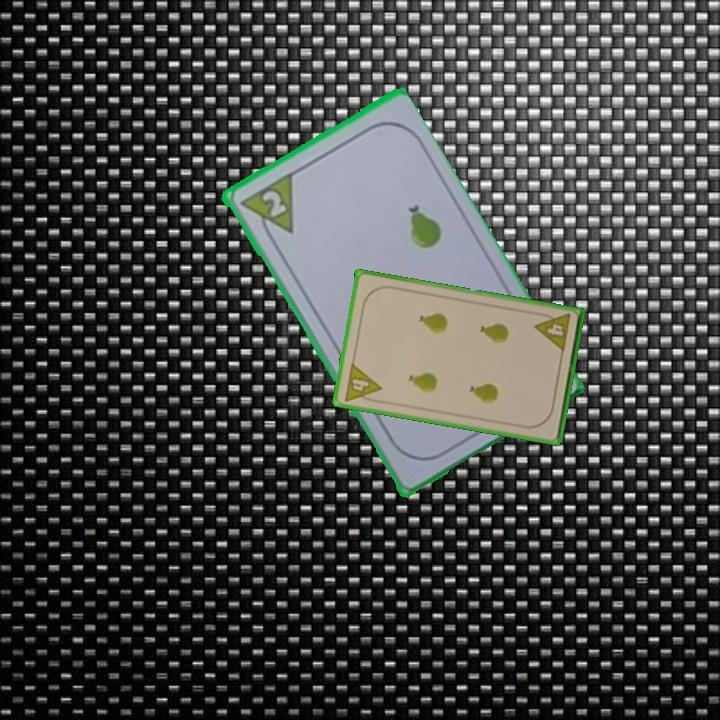2p: (257, 186, 289, 220)
4p: (340, 360, 384, 406), (531, 309, 573, 355)
